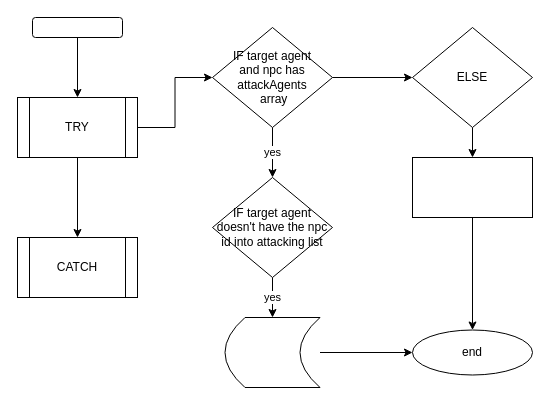
Image size: 550x405. Some labels were removed from this diagram. Each missing label, with the centre of its shape:
start: pixel 77 27
store the npc into target agent: pixel 272 352
user console: pixel 472 187
